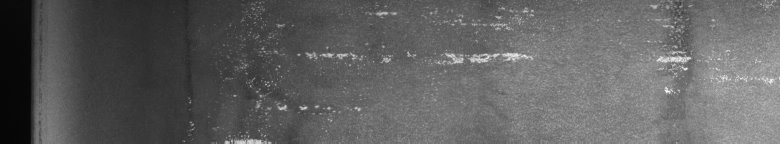hc: (651, 4, 773, 94)
